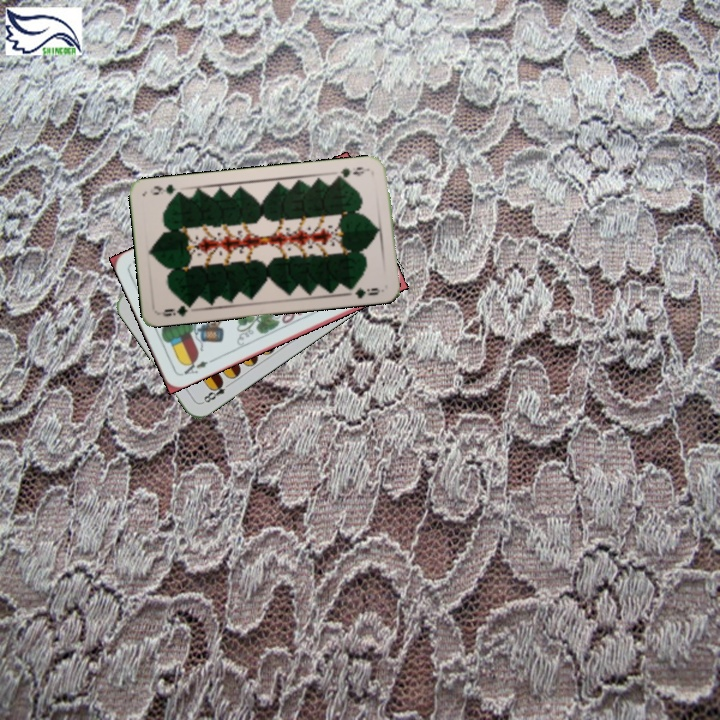E8: (198, 376, 234, 406)
EA: (178, 355, 216, 378)
G9: (156, 298, 196, 319), (332, 163, 372, 182)
